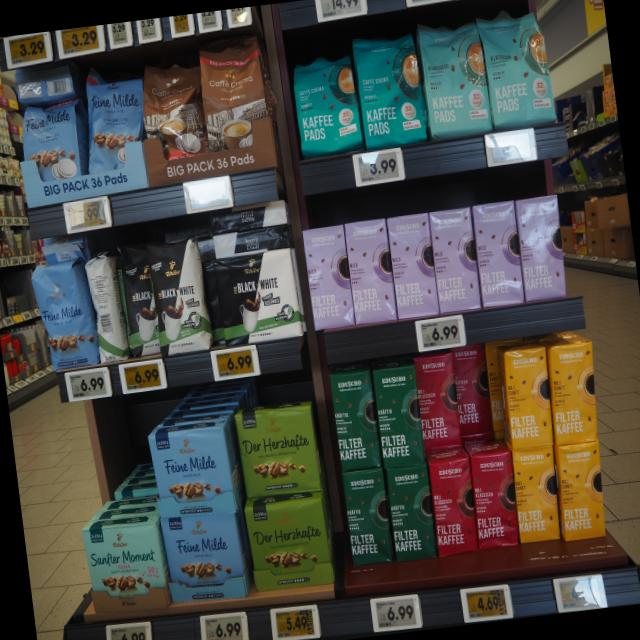BW Bohne: (142, 236, 214, 356), (111, 242, 160, 360)
BW Gemahlen: (210, 247, 306, 351)
CC Vollmundig: (195, 37, 276, 175), (136, 52, 212, 178)
Empty Shelf: (66, 433, 160, 530)
FM 36 Pads: (78, 64, 154, 184), (12, 92, 94, 200)
FM Bohne: (22, 250, 103, 376)
FM Gemahlen: (144, 423, 238, 520)
Herzhatfe Mundig: (240, 492, 336, 589), (232, 400, 324, 500)
SM Gemahlen: (80, 520, 167, 609)
